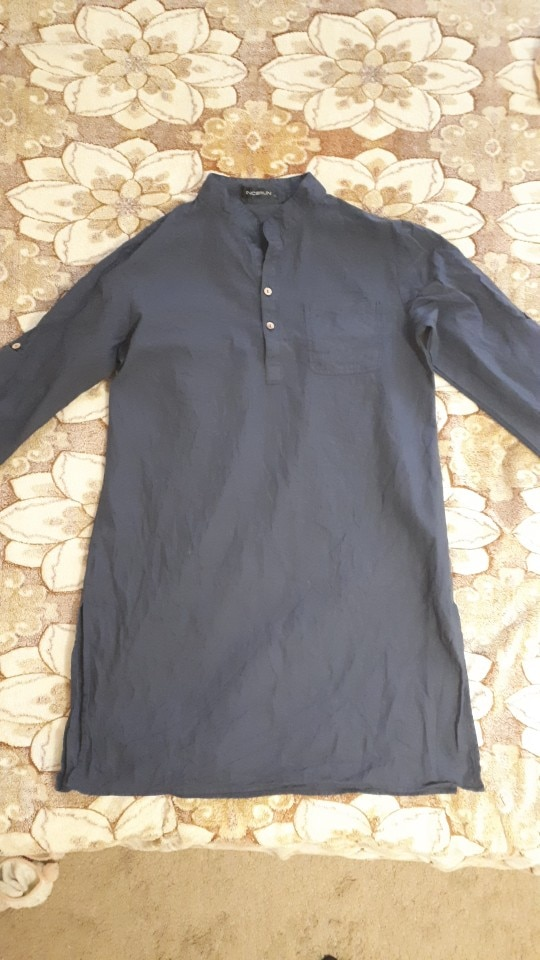shirts: (33, 177, 539, 833)
